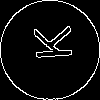K: (25, 25, 72, 62)
